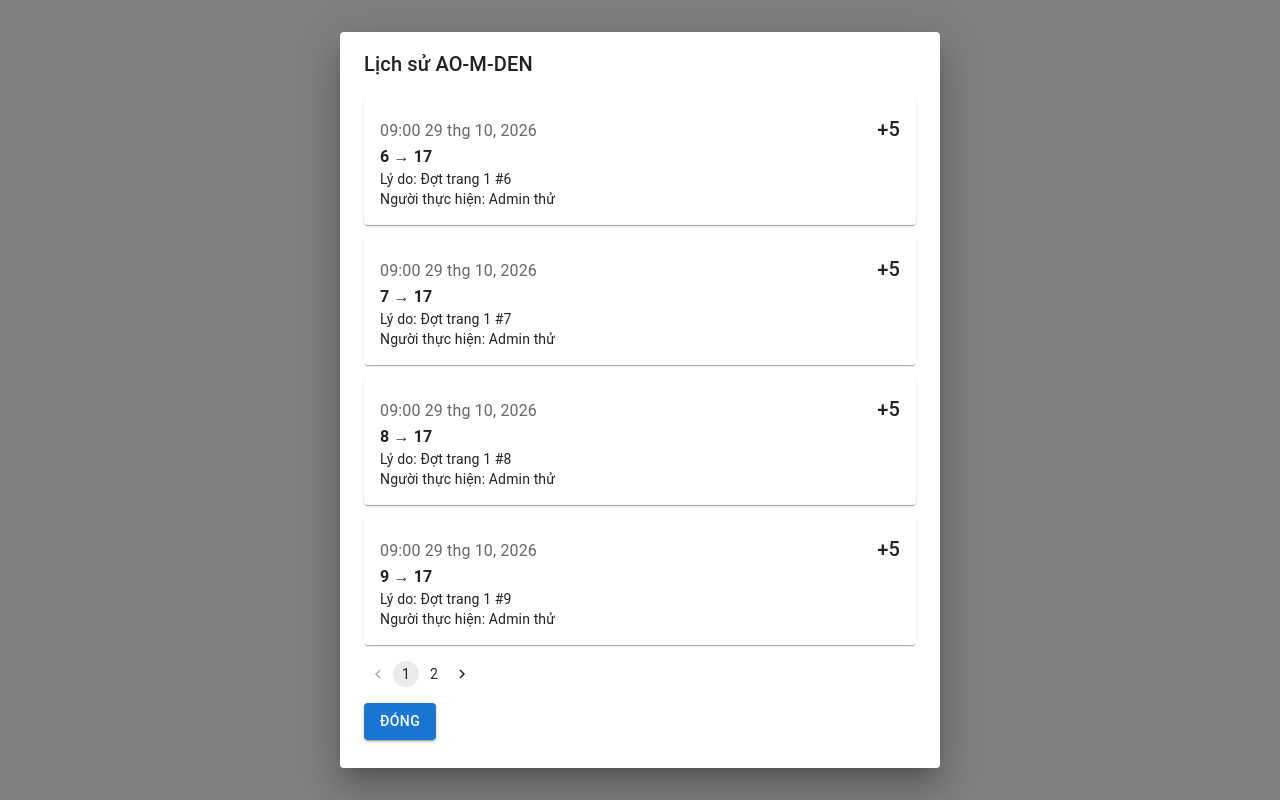
Test: inventory movement history dialog › pages through history keeping the dialog open
(page scrolled)
Click the button named "Trang 2".
click(434, 674)  # box [421,661,447,687]
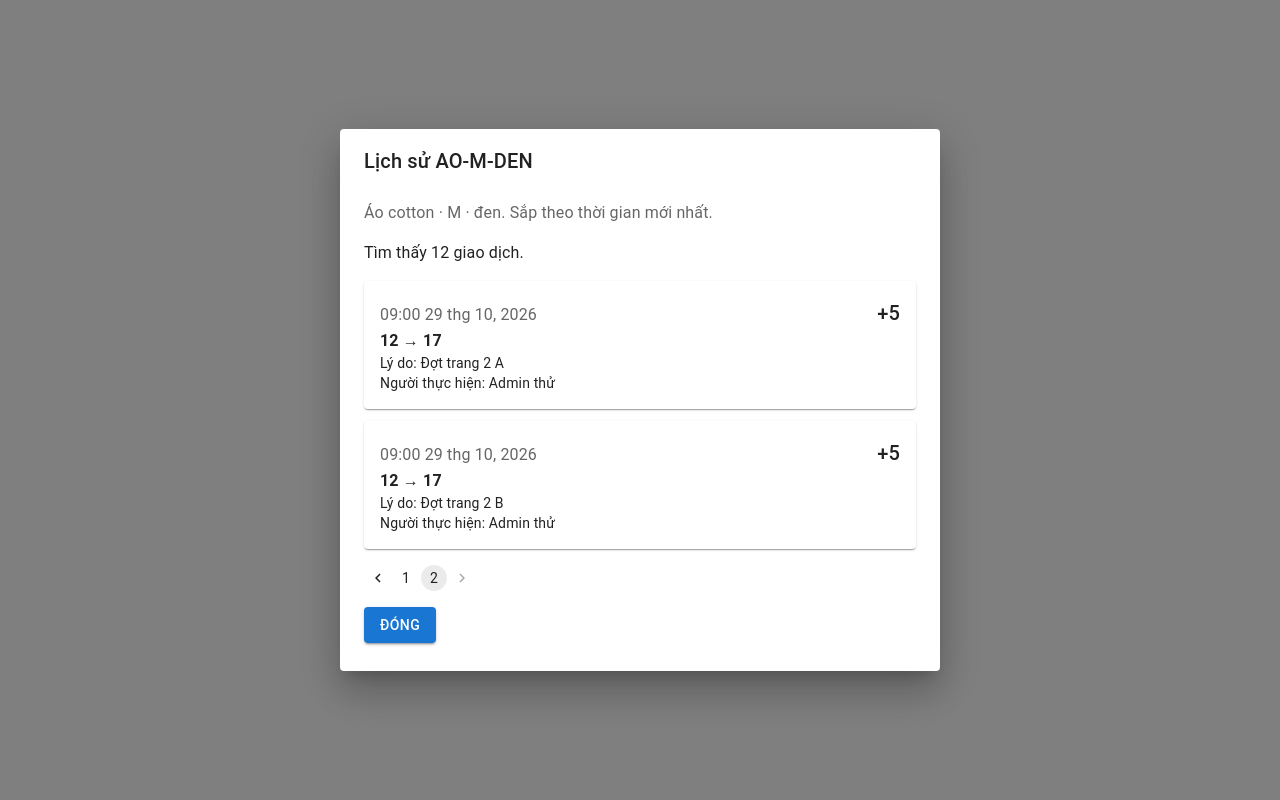
Expected: the dialog "Lịch sử AO-M-DEN" is shown, [340,129,940,671]
Expected: the text "Lý do: Đợt trang 2 A" is shown, [380,355,504,371]
